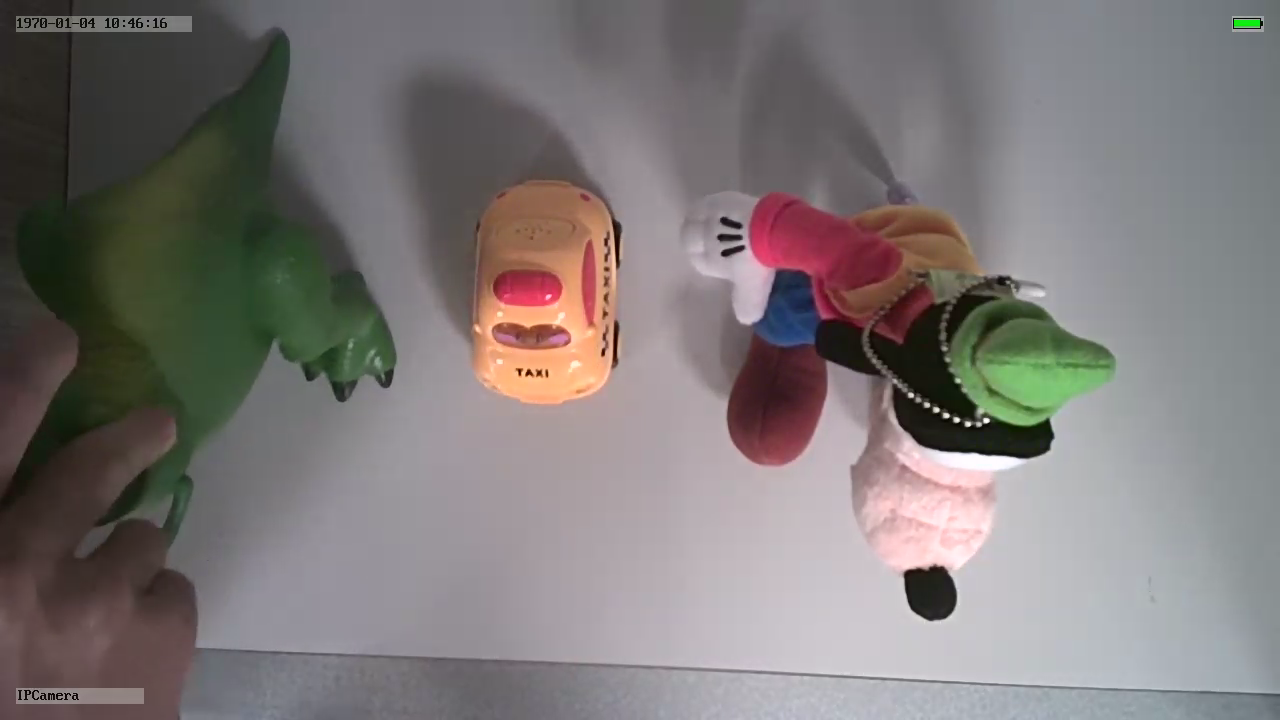goofy: (678, 181, 1120, 631)
